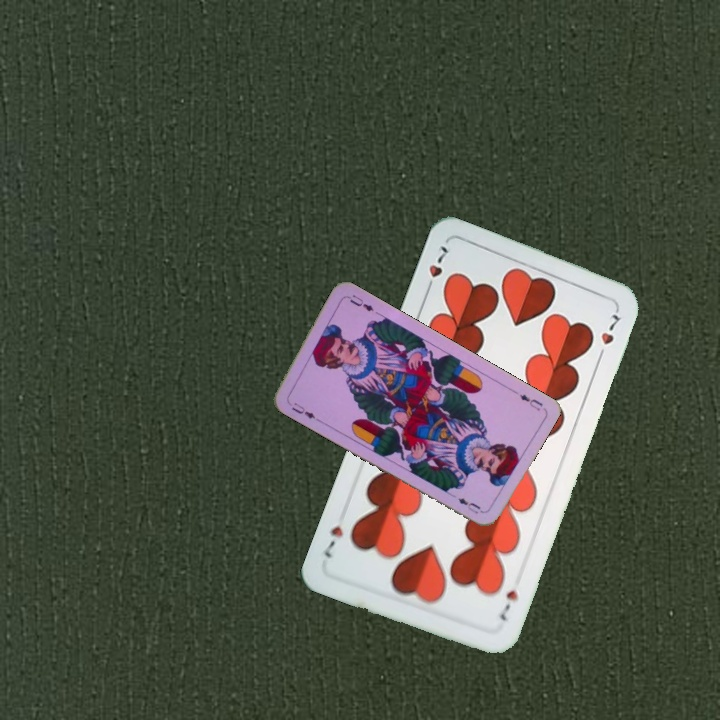EU: (284, 397, 321, 423), (515, 390, 545, 413)
H7: (421, 242, 452, 296), (495, 585, 521, 624)
